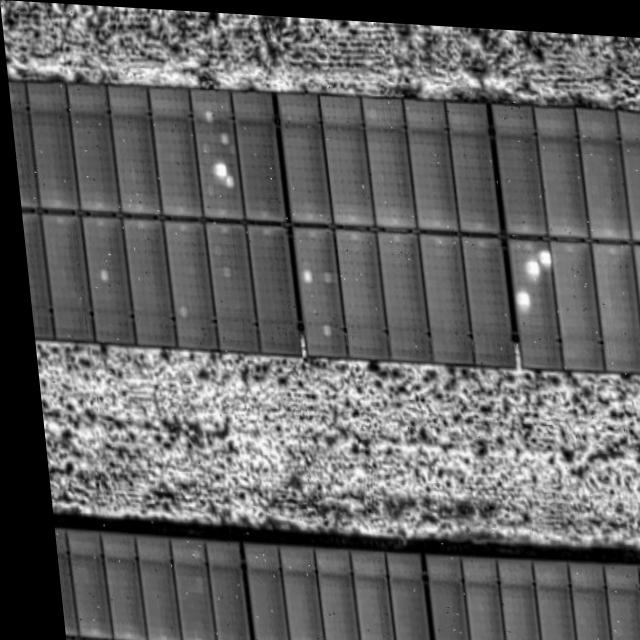Hotspot: (5, 80, 640, 375), (56, 531, 640, 640)
